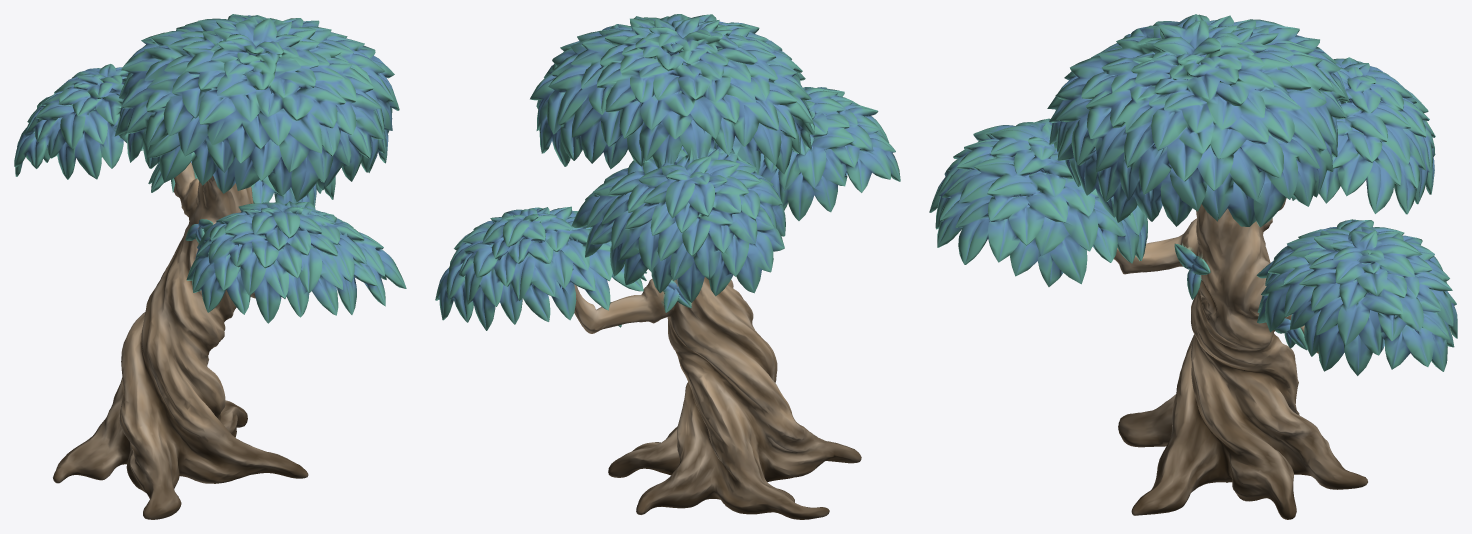
The model's file is SM_greenTree.fbx.
3 renders of one model, left to right at view 1: azimuth 30°, elevation 25°; view 2: azimuth 150°, elevation 25°; view 3: azimuth 270°, elevation 25°, orthographic. The views are drawn at different scales.
Visible parts, largest first — view 1: SM_greenTree; view 2: SM_greenTree; view 3: SM_greenTree.
Part boxes in pixels (x1=…): SM_greenTree: x1=14, y1=14, x2=406, y2=519; SM_greenTree: x1=435, y1=14, x2=900, y2=519; SM_greenTree: x1=929, y1=14, x2=1457, y2=519.
Size of the model in its own units: 485 by 622 by 625.
